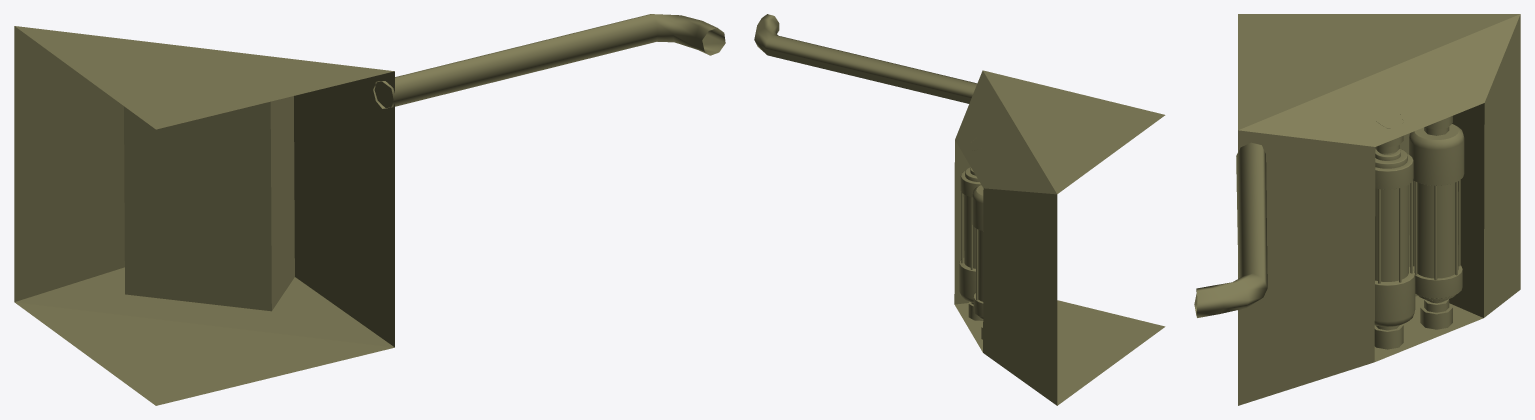
The model's file is Electricity_box.fbx.
3 views of the same model, side by side, from view 1: azimuth 30°, elevation 25°; view 2: azimuth 150°, elevation 25°; view 3: azimuth 270°, elevation 25° (orthographic). The views are drawn at different scales.
Visible parts, largest first — view 1: Box, Wire; view 2: Box, Wire, Battery_2, Battery_1; view 3: Box, Battery_1, Battery_2, Wire.
Part boxes in pixels (x1,y1,x2,y2): Box: (14,26,394,405); Wire: (373,14,725,108); Box: (954,70,1165,405); Wire: (754,14,977,103); Battery_2: (959,140,983,320); Battery_1: (972,185,983,339); Box: (1238,14,1520,405); Battery_1: (1409,116,1464,329); Battery_2: (1374,114,1415,349); Wire: (1194,142,1267,317).
Bounding box in the file's own units: 467 × 224 × 241.
